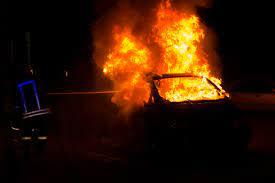fire: (99, 0, 217, 86), (167, 89, 223, 98)
